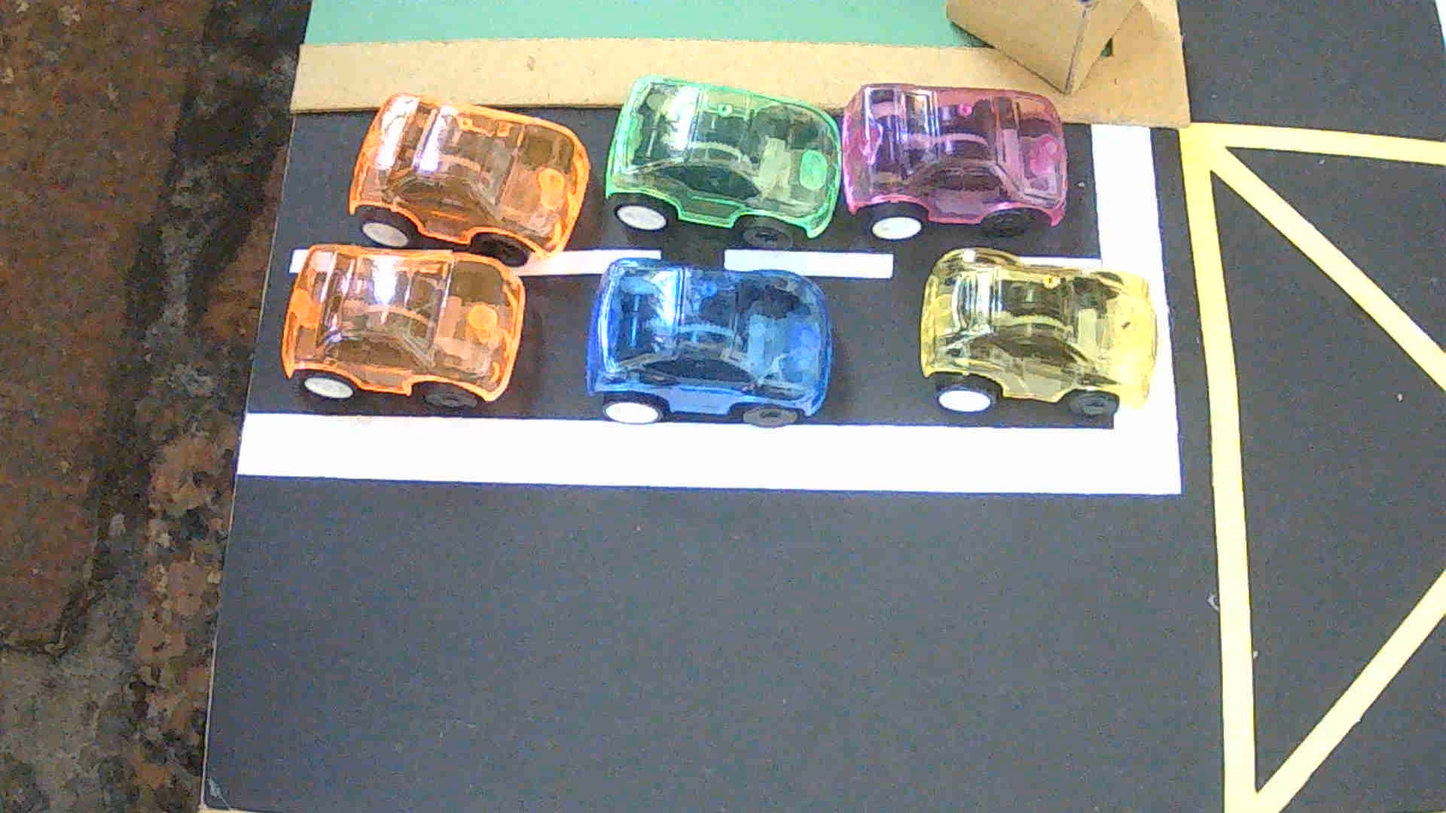Mobil biru: (587, 258, 831, 427)
Mobil hijau: (606, 75, 840, 248)
Mobil kuning: (920, 248, 1158, 419)
Mobil orange: (349, 93, 590, 266), (280, 244, 526, 407)
Mobil ungu: (841, 83, 1067, 240)
